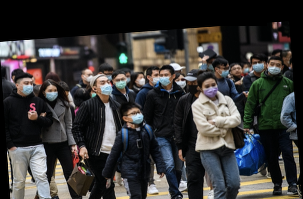with_mask: (202, 81, 219, 99), (98, 79, 114, 97), (185, 79, 200, 96), (130, 109, 145, 125), (267, 60, 282, 76), (20, 79, 34, 96), (45, 86, 59, 103), (159, 72, 172, 87), (114, 77, 128, 90), (175, 76, 188, 90), (219, 65, 232, 79), (252, 59, 265, 72), (206, 58, 215, 72), (151, 72, 160, 85), (85, 72, 95, 83), (137, 75, 147, 86), (105, 71, 114, 80), (242, 65, 250, 74), (125, 72, 131, 83)
without_mask: (231, 66, 244, 77)
